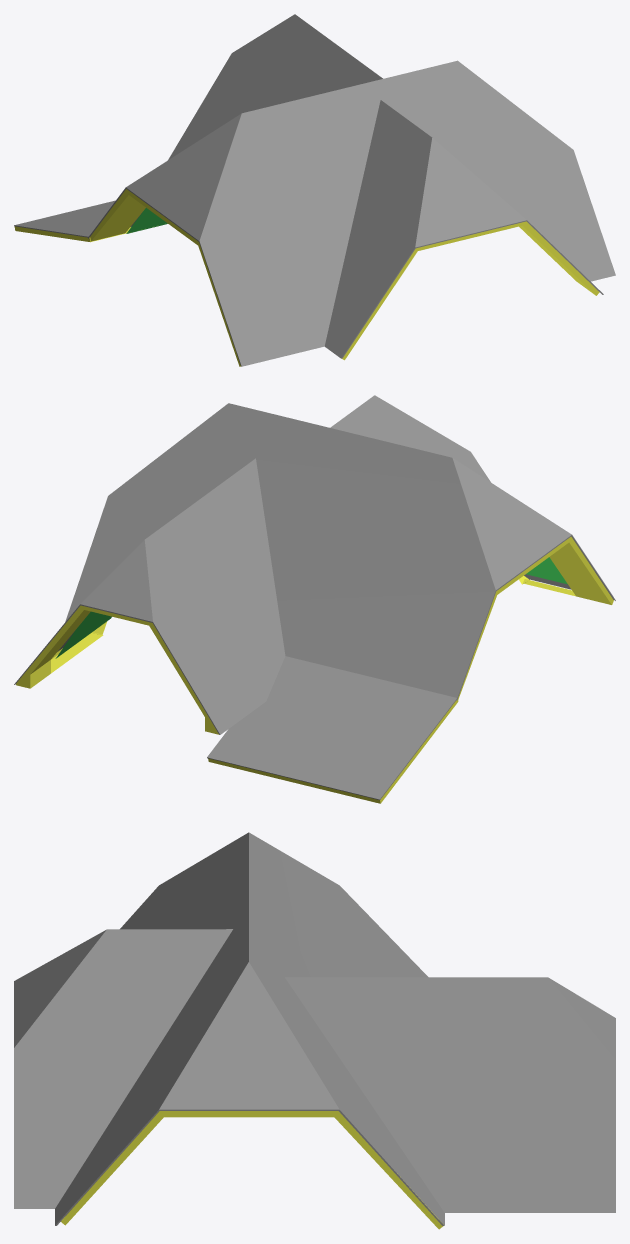
The model's file is krisha.FBX.
3 renders of one model, top to bottom at view 1: azimuth 30°, elevation 25°; view 2: azimuth 150°, elevation 25°; view 3: azimuth 270°, elevation 25°, orthographic. The views are drawn at different scales.
Visible parts, largest first — view 1: krisha1; view 2: krisha1; view 3: krisha1.
Boxes of the visible parts, left/top/right/bottom form: krisha1: left=14, top=14, right=615, bottom=366; krisha1: left=14, top=395, right=615, bottom=803; krisha1: left=14, top=832, right=615, bottom=1229.
Bounding box in the file's own units: 1133 × 598 × 1284.
